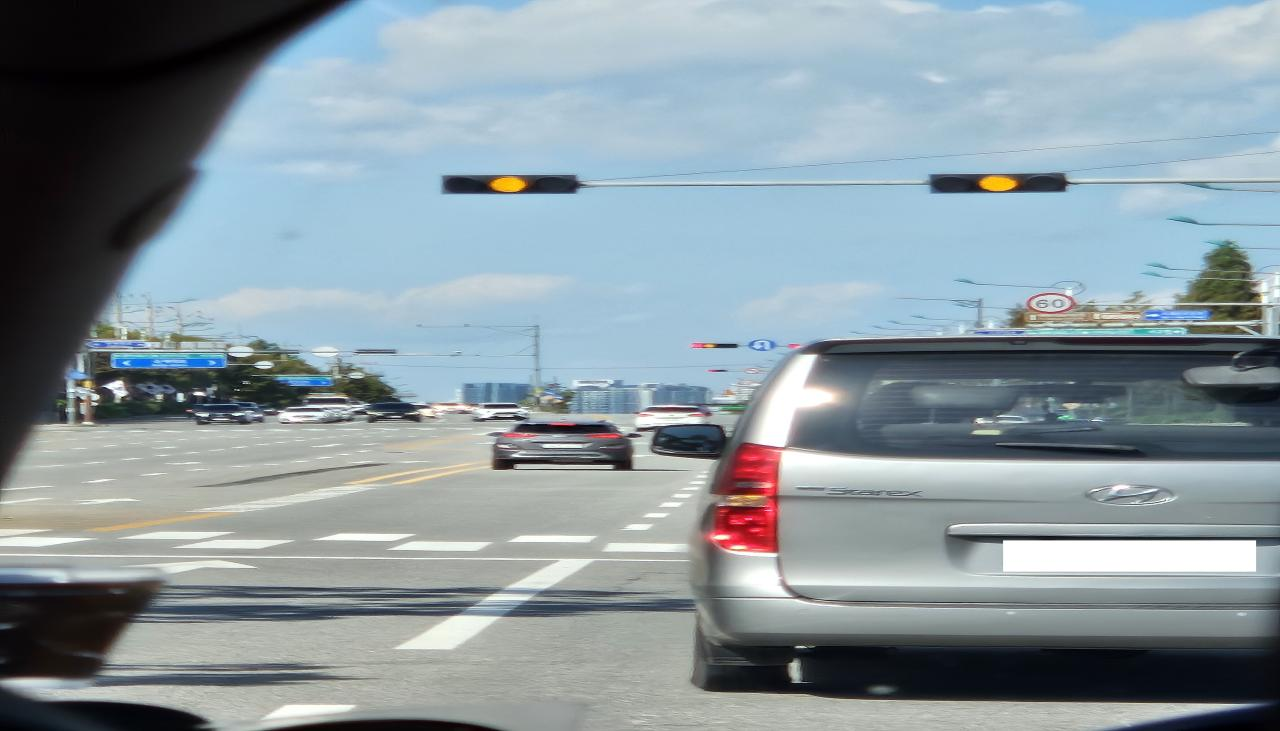Yellow Light: (486, 174, 530, 194), (974, 174, 1021, 192)
